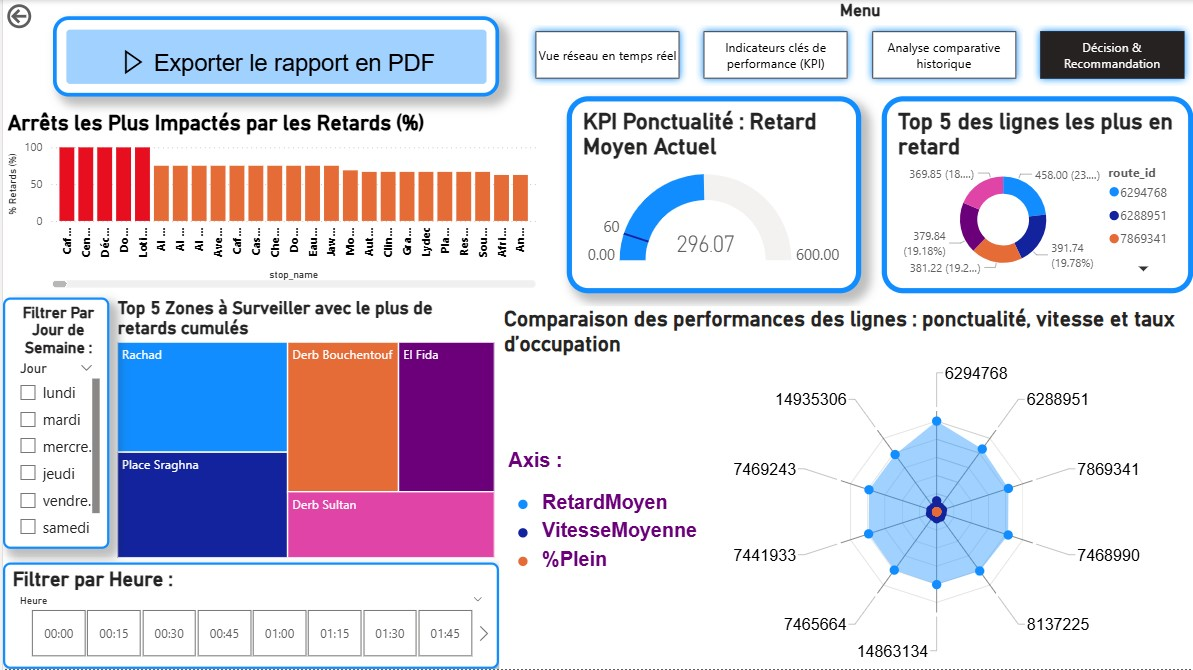

The page's visual inventory and layout, read from the dashboard file:
{"tool":"powerbi","page":{"name":"Décision & Recommandation","canvas":[1280,720],"ordinal":3},"visuals":[{"type":"columnChart","title":"Arrêts les Plus Impactés par les Retards (%) ","fields":{"Category":["Stops.stop_name"],"Y":["Trips.% Retards (%)"]},"box":[0,118.3,578.3,196.3],"z":0},{"type":"gauge","title":"KPI Ponctualité : Retard Moyen Actuel","fields":{"Y":["Trips.RetardMoyen"],"TargetValue":["ObjectifRetard.Valeur ObjectifRetard"]},"box":[606.7,103.3,316.7,211.7],"z":1000},{"type":"donutChart","title":"Top 5 des lignes les plus en retard","fields":{"Category":["Route.route_id","Route.route_name"],"Y":["Trips.RetardMoyen"]},"box":[945,103.3,335,211.7],"z":2000},{"type":"treemap","title":"Top 5 Zones à Surveiller avec le plus de retards cumulés","fields":{"Group":["Stops.stop_name"],"Values":["Trips.TotalRetard"]},"box":[118.3,320.1,415.6,285.1],"z":3000},{"type":"slicer","title":"Filtrer Par Jour de Semaine  :","fields":{"Values":["Trips.Jour"]},"box":[0,320.1,114.3,270.3],"z":4000},{"type":"slicer","title":"Filtrer par Heure :","fields":{"Values":["Trips.Heure"]},"box":[0,605.2,533.9,114.3],"z":5000},{"type":"RadarChart1446119667547","title":"Comparaison des performances des lignes : ponctualité, vitesse et taux d’occupation","fields":{"Category":["Route.route_id"],"Y":["Trips.RetardMoyen","Trips.VitesseMoyenne","Trips.%Plein"]},"box":[533.9,329.5,732.9,390],"z":6000},{"type":"actionButton","box":[0,0,35,35],"z":7000},{"type":"pageNavigator","title":"Menu","box":[565,0,715,93.3],"z":8000},{"type":"FlowVisual_C29F1DCC_81F5_4973_94AD_0517D44CC06A","fields":{"table":["ObjectifRetard.Déclencheur"]},"box":[53.8,17.5,480.1,86.1],"z":9001}]}

Visuals, with their boxes in screenshot pixels (x1, y1, x2, y2), scaled from the page's 1280x720 canvas onto the 1193x670 screenshot:
"Arrêts les Plus Impactés par les Retards (%) " columnChart: rect(0, 110, 539, 293)
"KPI Ponctualité : Retard Moyen Actuel" gauge: rect(565, 96, 861, 293)
"Top 5 des lignes les plus en retard" donutChart: rect(881, 96, 1192, 293)
"Top 5 Zones à Surveiller avec le plus de retards cumulés" treemap: rect(110, 298, 498, 563)
"Filtrer Par Jour de Semaine  :" slicer: rect(0, 298, 107, 549)
"Filtrer par Heure :" slicer: rect(0, 563, 498, 669)
"Comparaison des performances des lignes : ponctualité, vitesse et taux d’occupation" RadarChart1446119667547: rect(498, 307, 1181, 669)
actionButton: rect(0, 0, 33, 33)
"Menu" pageNavigator: rect(527, 0, 1192, 87)
FlowVisual_C29F1DCC_81F5_4973_94AD_0517D44CC06A - ObjectifRetard.Déclencheur: rect(50, 16, 498, 96)
